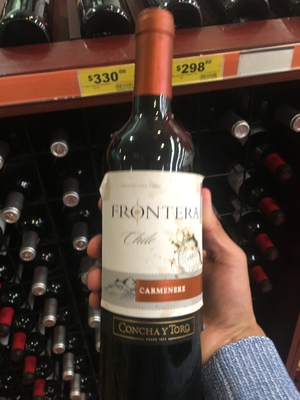frontera carmenere: (91, 6, 235, 400)
